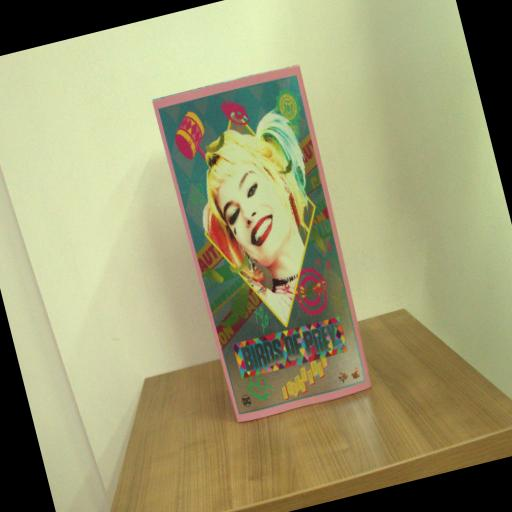Harley: (152, 61, 380, 427)
